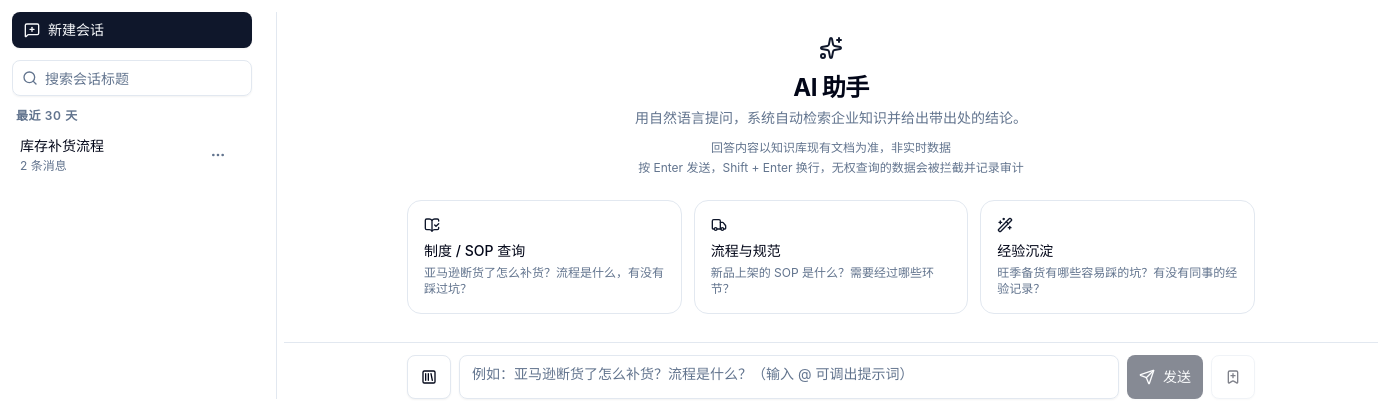
Test: 会话列表的「⋯」操作菜单与删除 › 重命名仍可从菜单进入编辑态
Step 1. Click the button named "会话操作：库存补货流程" → (218, 155), box [200,137,236,173]
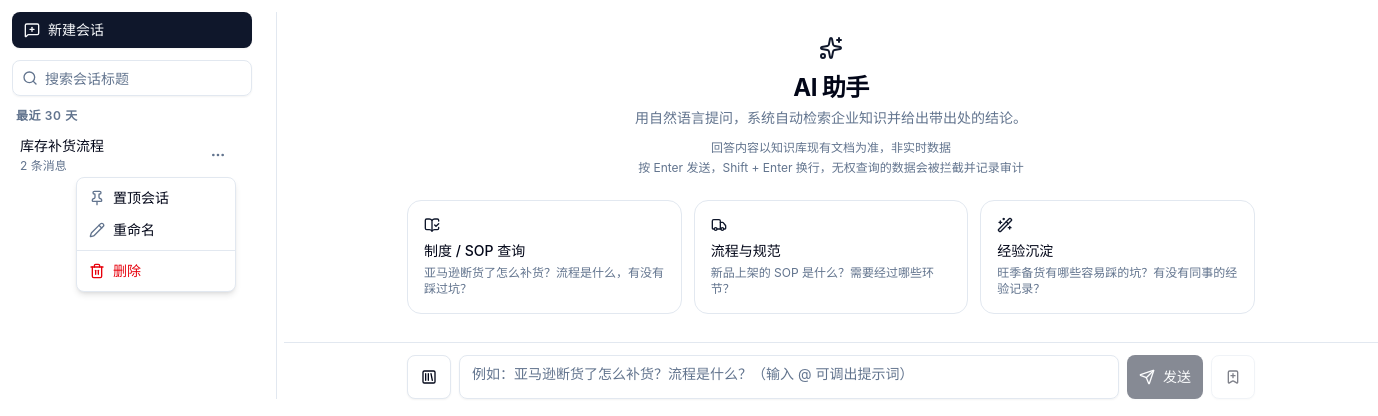
Step 2. Click the menu item "重命名" → (122, 230), box [89,221,155,238]
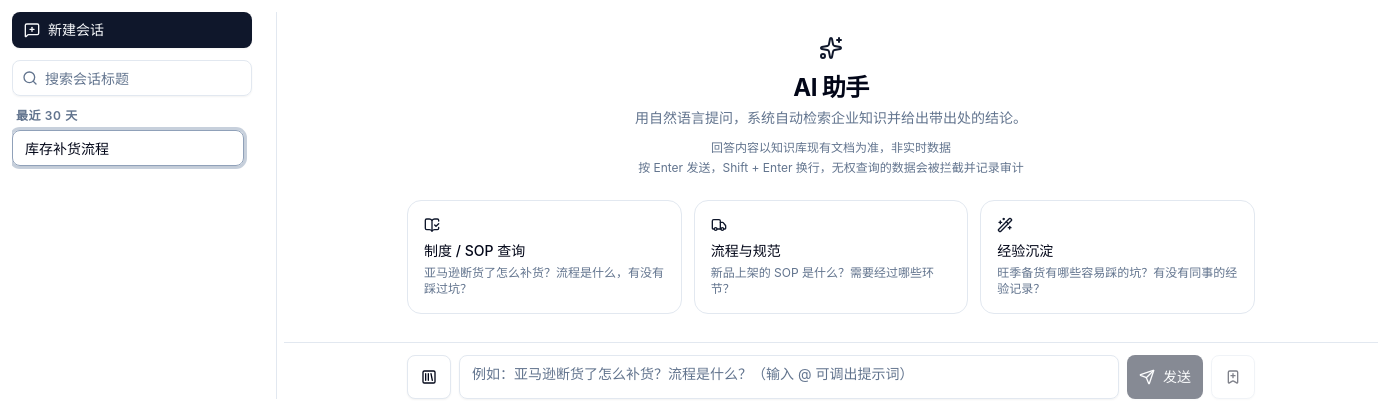
Expected: the field named "会话标题" is shown, [12,130,244,166]
